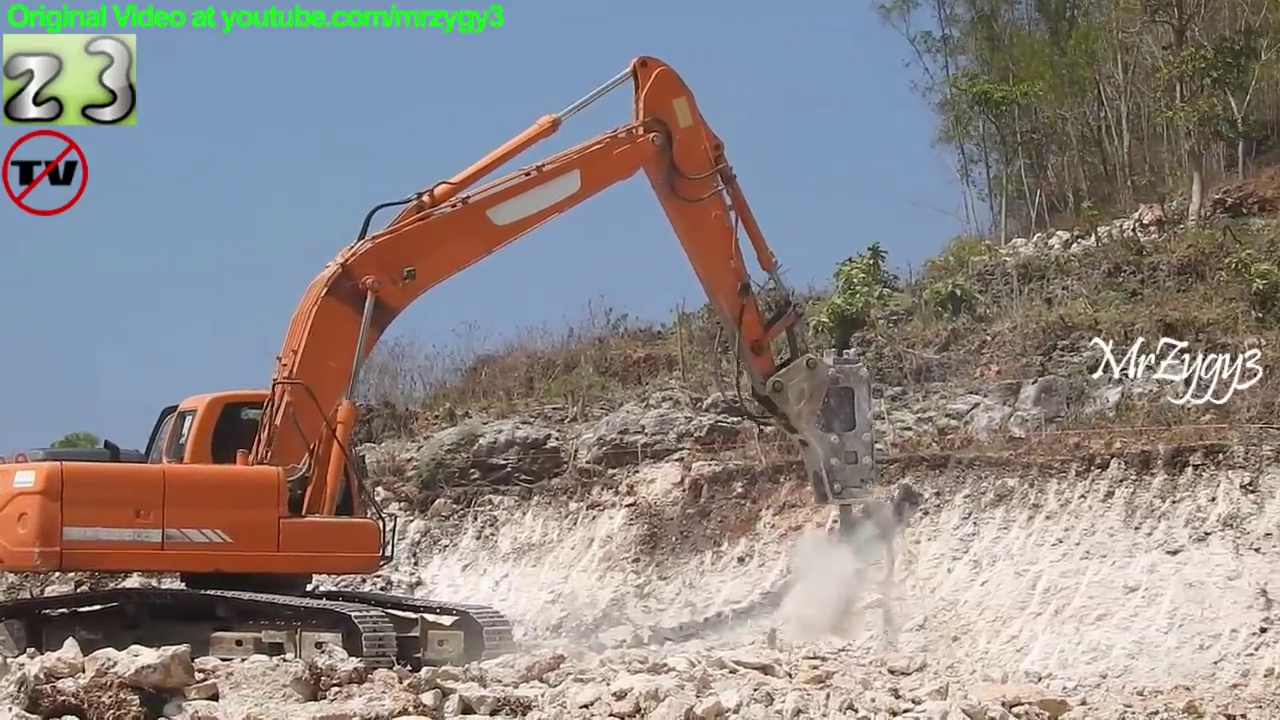excavator breaker: (1, 54, 886, 693)
